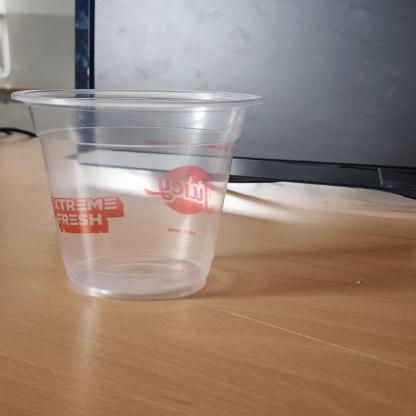Plastic Cup: (9, 87, 265, 301)
